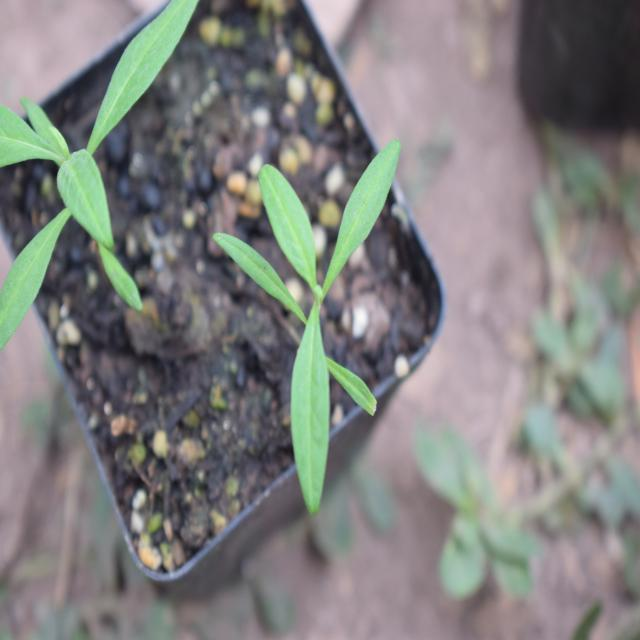white_smart_weed: (0, 21, 225, 364), (233, 110, 421, 511)
